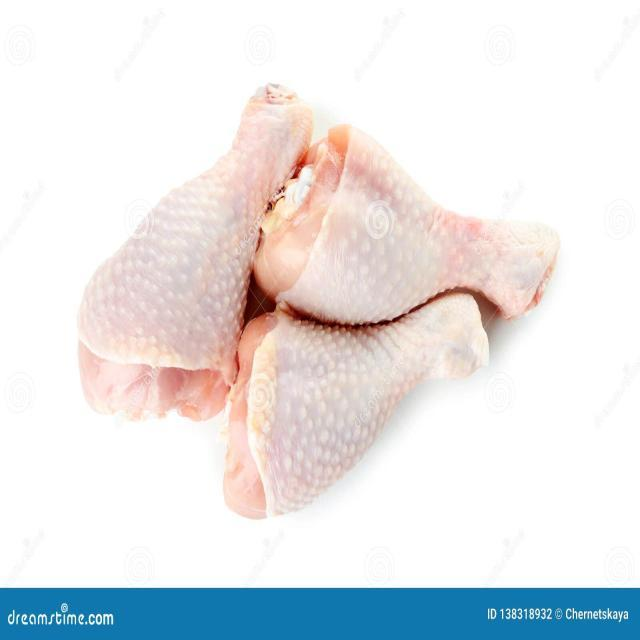leg: (65, 84, 301, 400), (228, 291, 486, 527), (258, 126, 563, 316)
